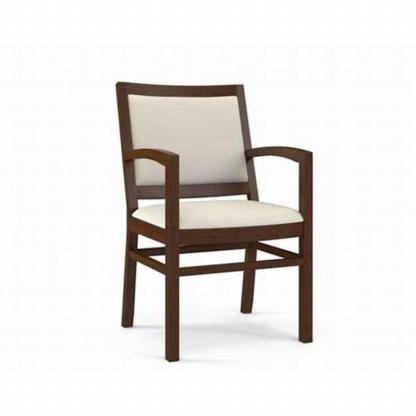Chair: (116, 80, 315, 362)
